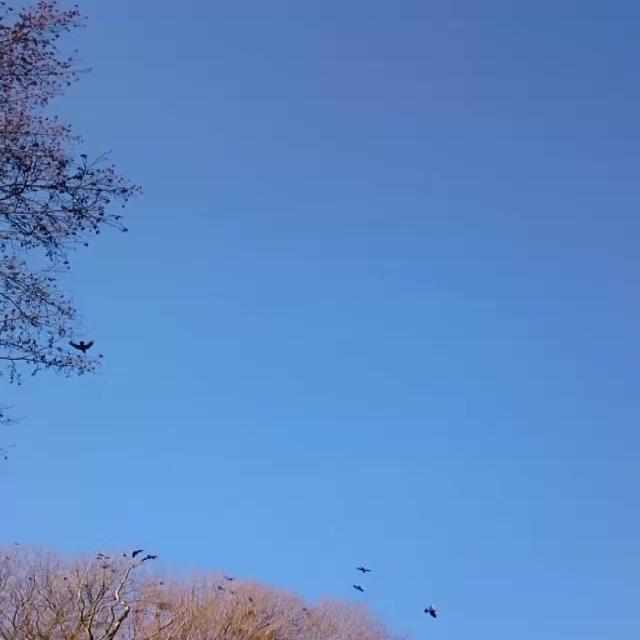bird: (61, 336, 100, 354), (419, 601, 444, 624), (350, 559, 376, 578), (348, 583, 368, 596), (142, 554, 158, 566), (130, 548, 146, 556)
